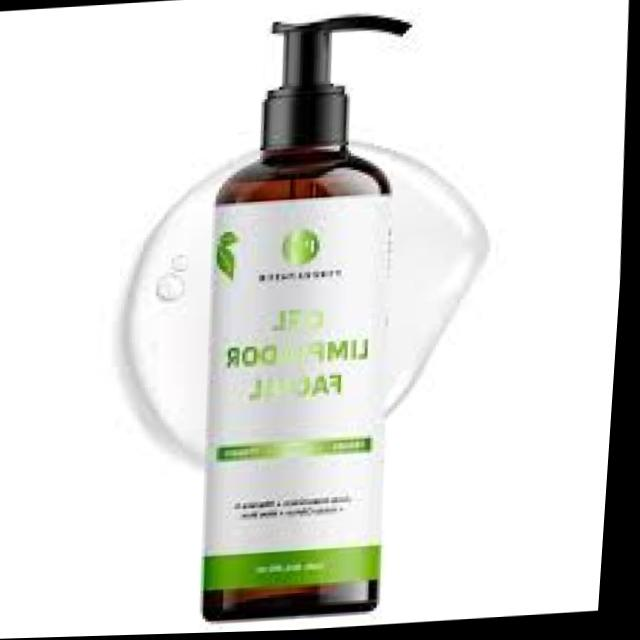Botella: (146, 0, 451, 615)
